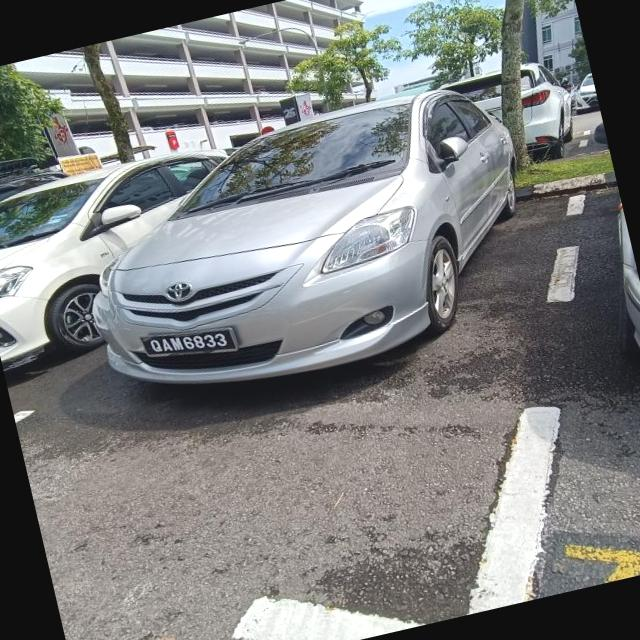ToyotaVios: (57, 71, 554, 418)
